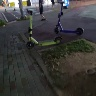beam: (53, 1, 86, 38)
gcooter: (24, 7, 64, 49)
